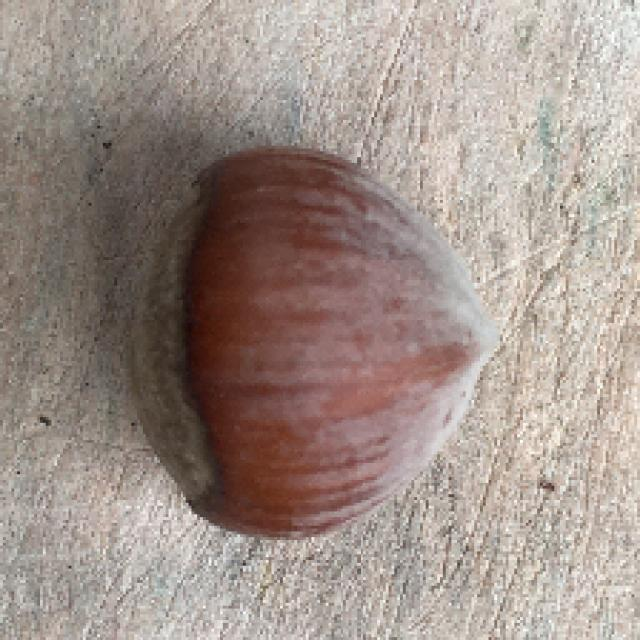qualityHazelnut: (128, 143, 502, 545)
